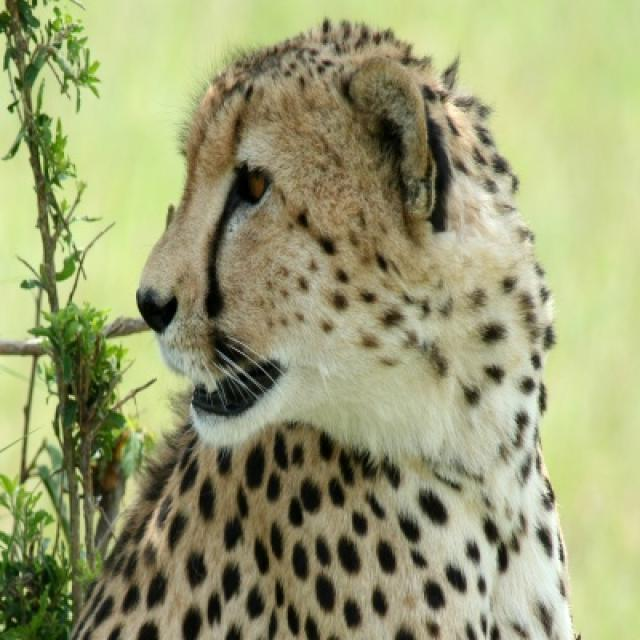Cheetah: (69, 19, 579, 638)
